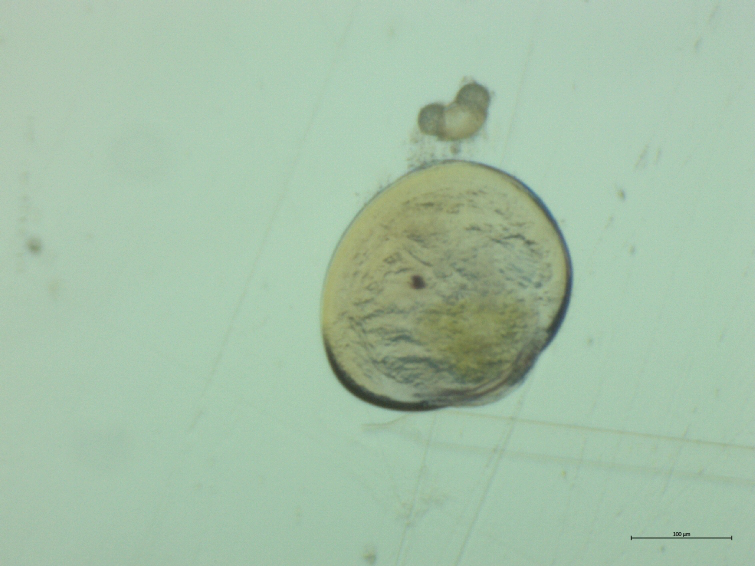oyster: (305, 150, 591, 436)
